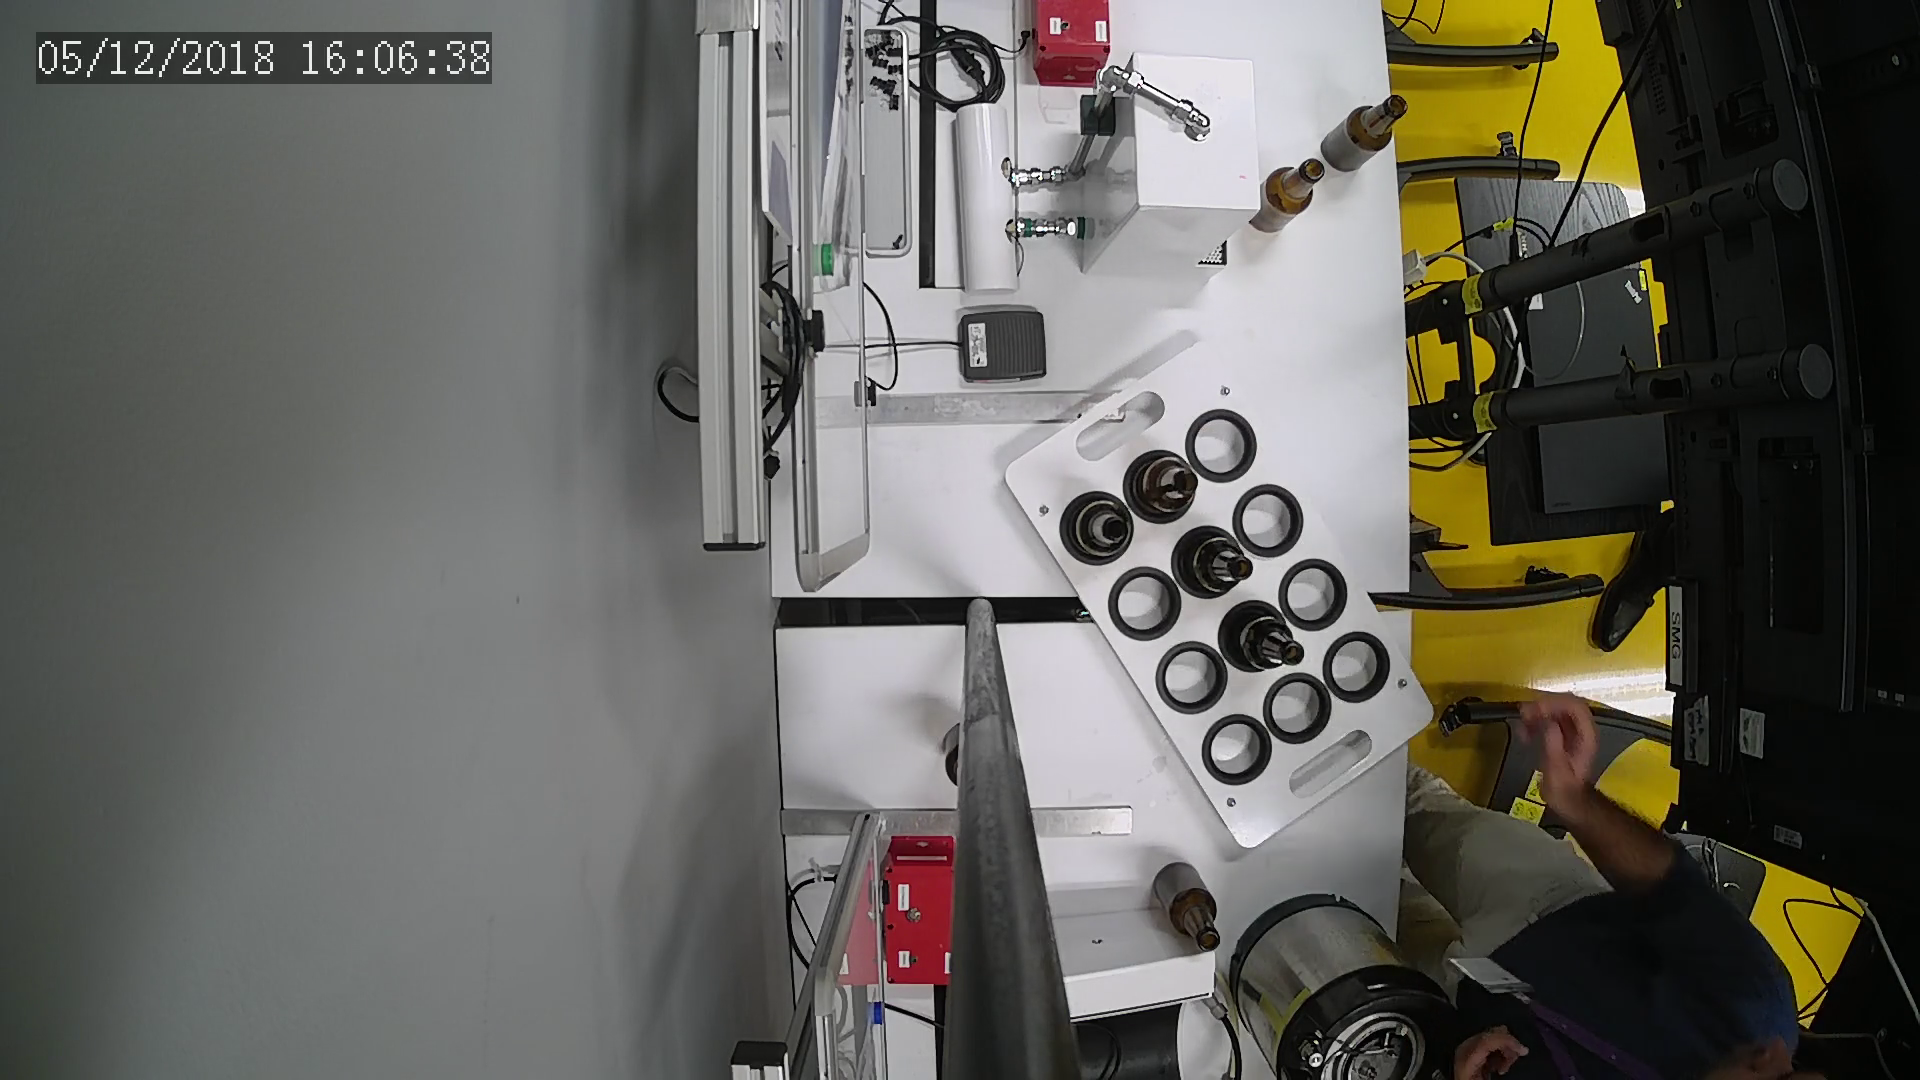filled_bottle: (1224, 601, 1308, 676), (1176, 527, 1253, 599), (1127, 448, 1201, 520), (1065, 491, 1133, 564)
trolley: (1004, 342, 1435, 851)
unfilled_bottle: (1153, 861, 1224, 959), (1320, 94, 1406, 174), (1249, 153, 1328, 233)
